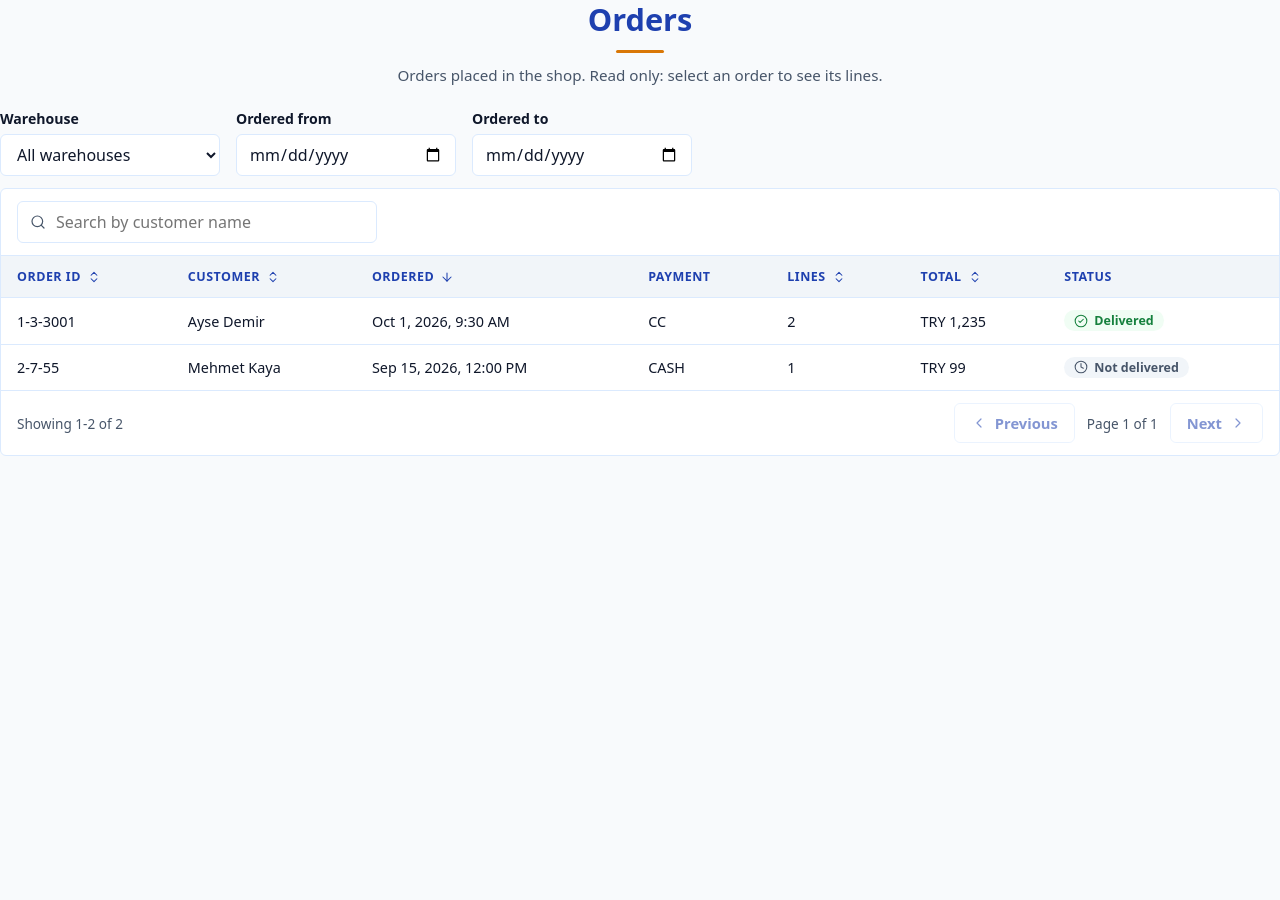
Scenario: an order without lines says so
Step 1. Click the text "1-3-3001" → {"x": 640, "y": 321}, box top-left (1, 298), bottom-right (1279, 344)
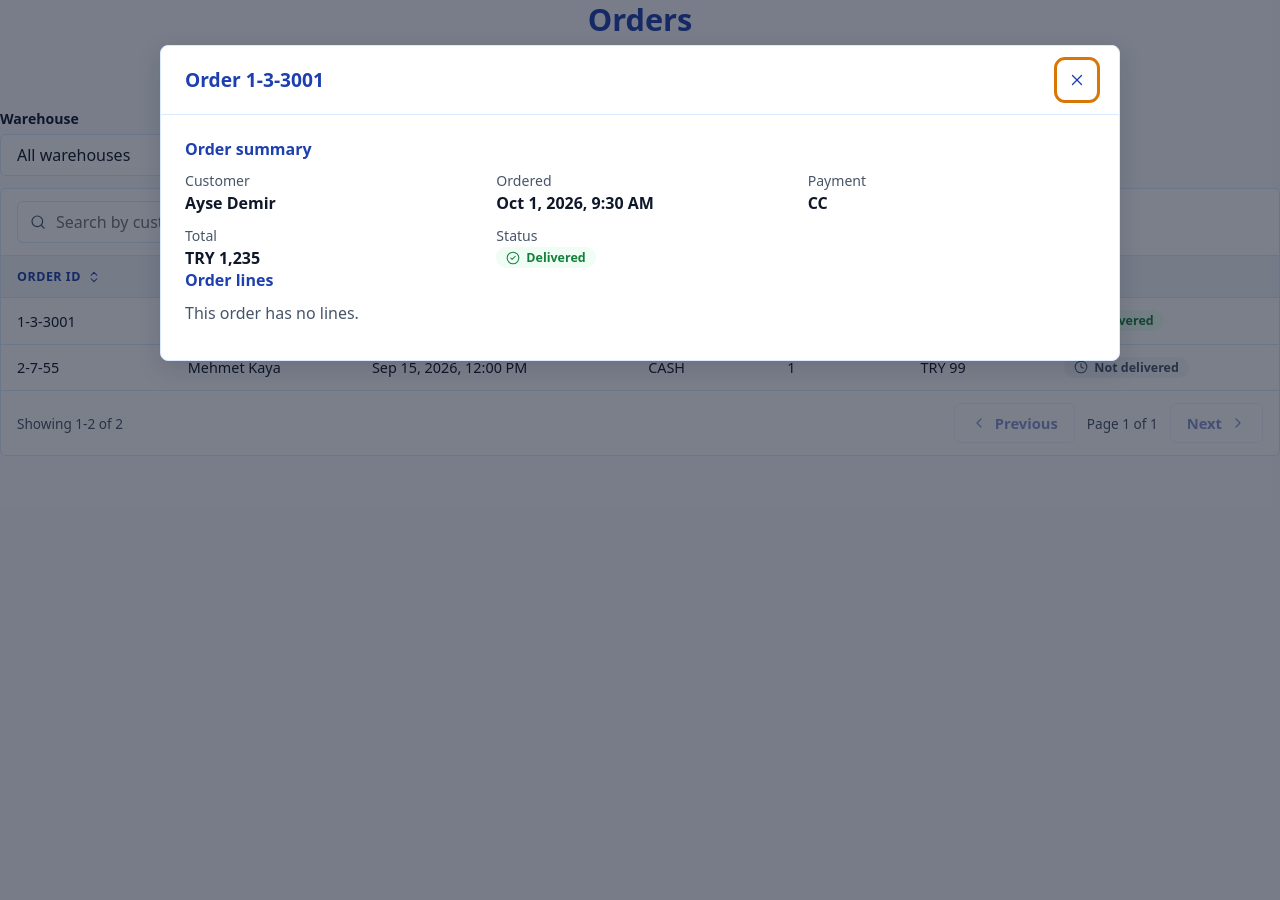
Check: the text "This order has no lines." is shown, box top-left (185, 302), bottom-right (359, 324)
